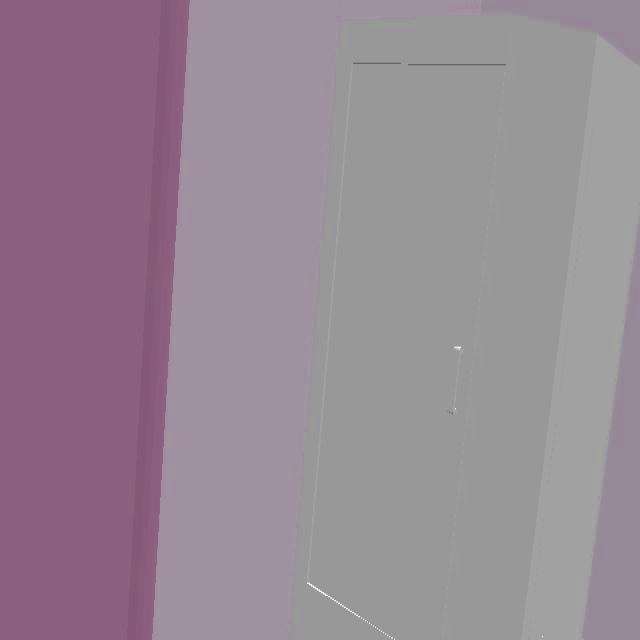shower: (289, 15, 640, 640)
